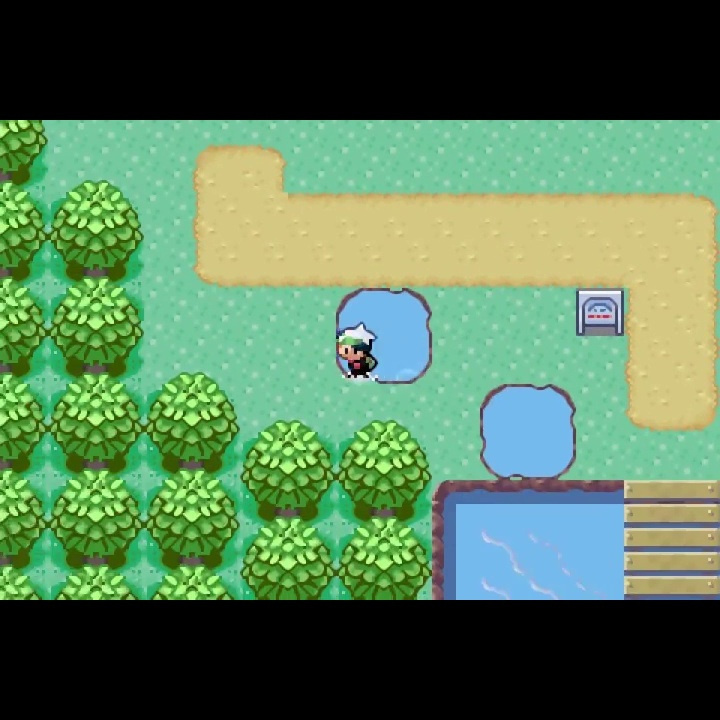npc: (330, 321, 380, 387)
wall: (238, 417, 335, 520), (335, 418, 431, 522), (145, 372, 242, 469), (48, 372, 145, 469), (48, 276, 145, 373), (145, 467, 240, 565), (49, 467, 145, 563), (48, 179, 144, 275), (238, 518, 337, 599), (337, 519, 432, 600), (1, 275, 49, 373), (1, 468, 49, 564), (1, 372, 49, 468), (1, 179, 49, 275), (49, 562, 146, 600), (146, 563, 238, 600), (1, 121, 49, 180), (1, 562, 50, 600)
